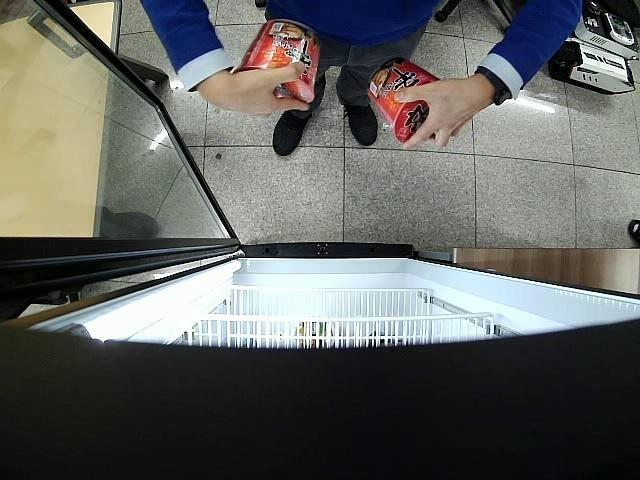01_ShinRamen_L: (231, 19, 321, 104), (369, 57, 441, 142)
